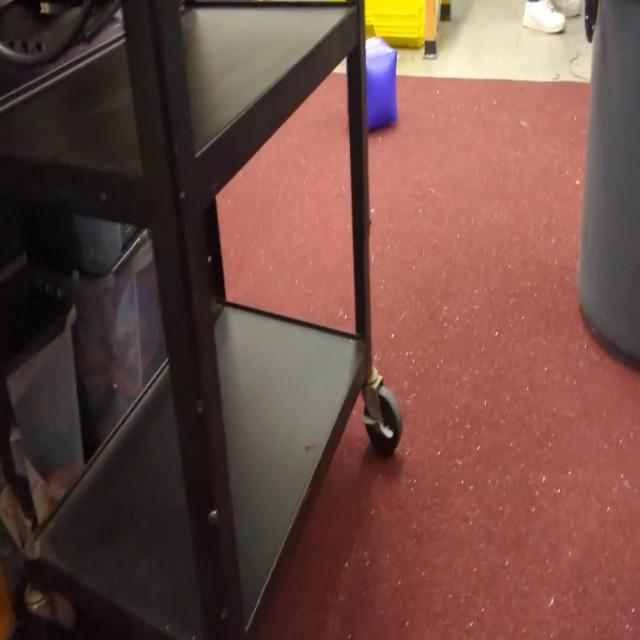frc_cube: (365, 36, 397, 138)
